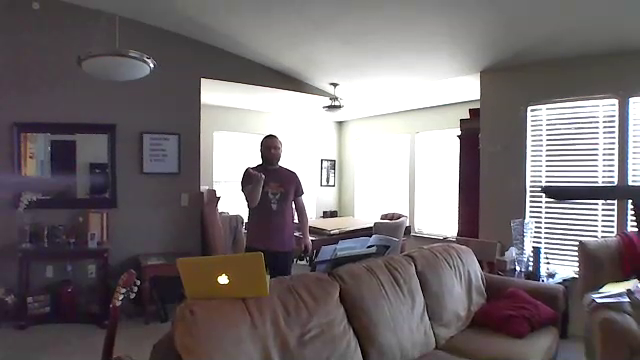land: (243, 162, 268, 183)
